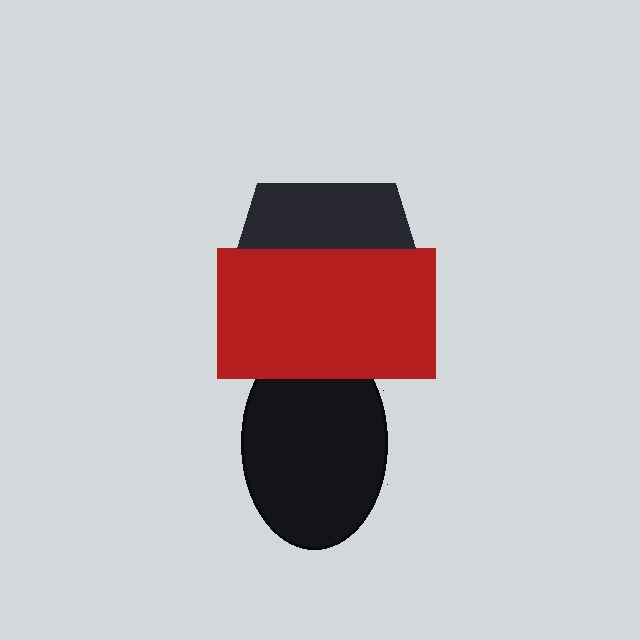pothole: (241, 336, 387, 549)
vehicle: (217, 183, 435, 378)
